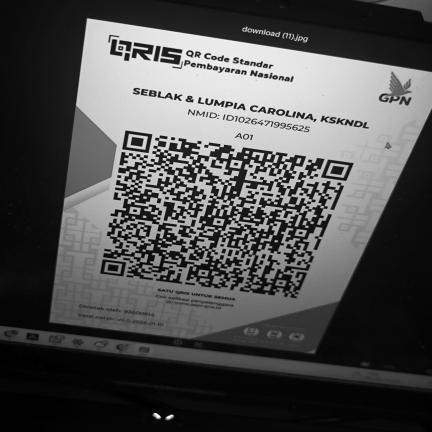Qris-Positioning: (50, 18, 432, 354)
